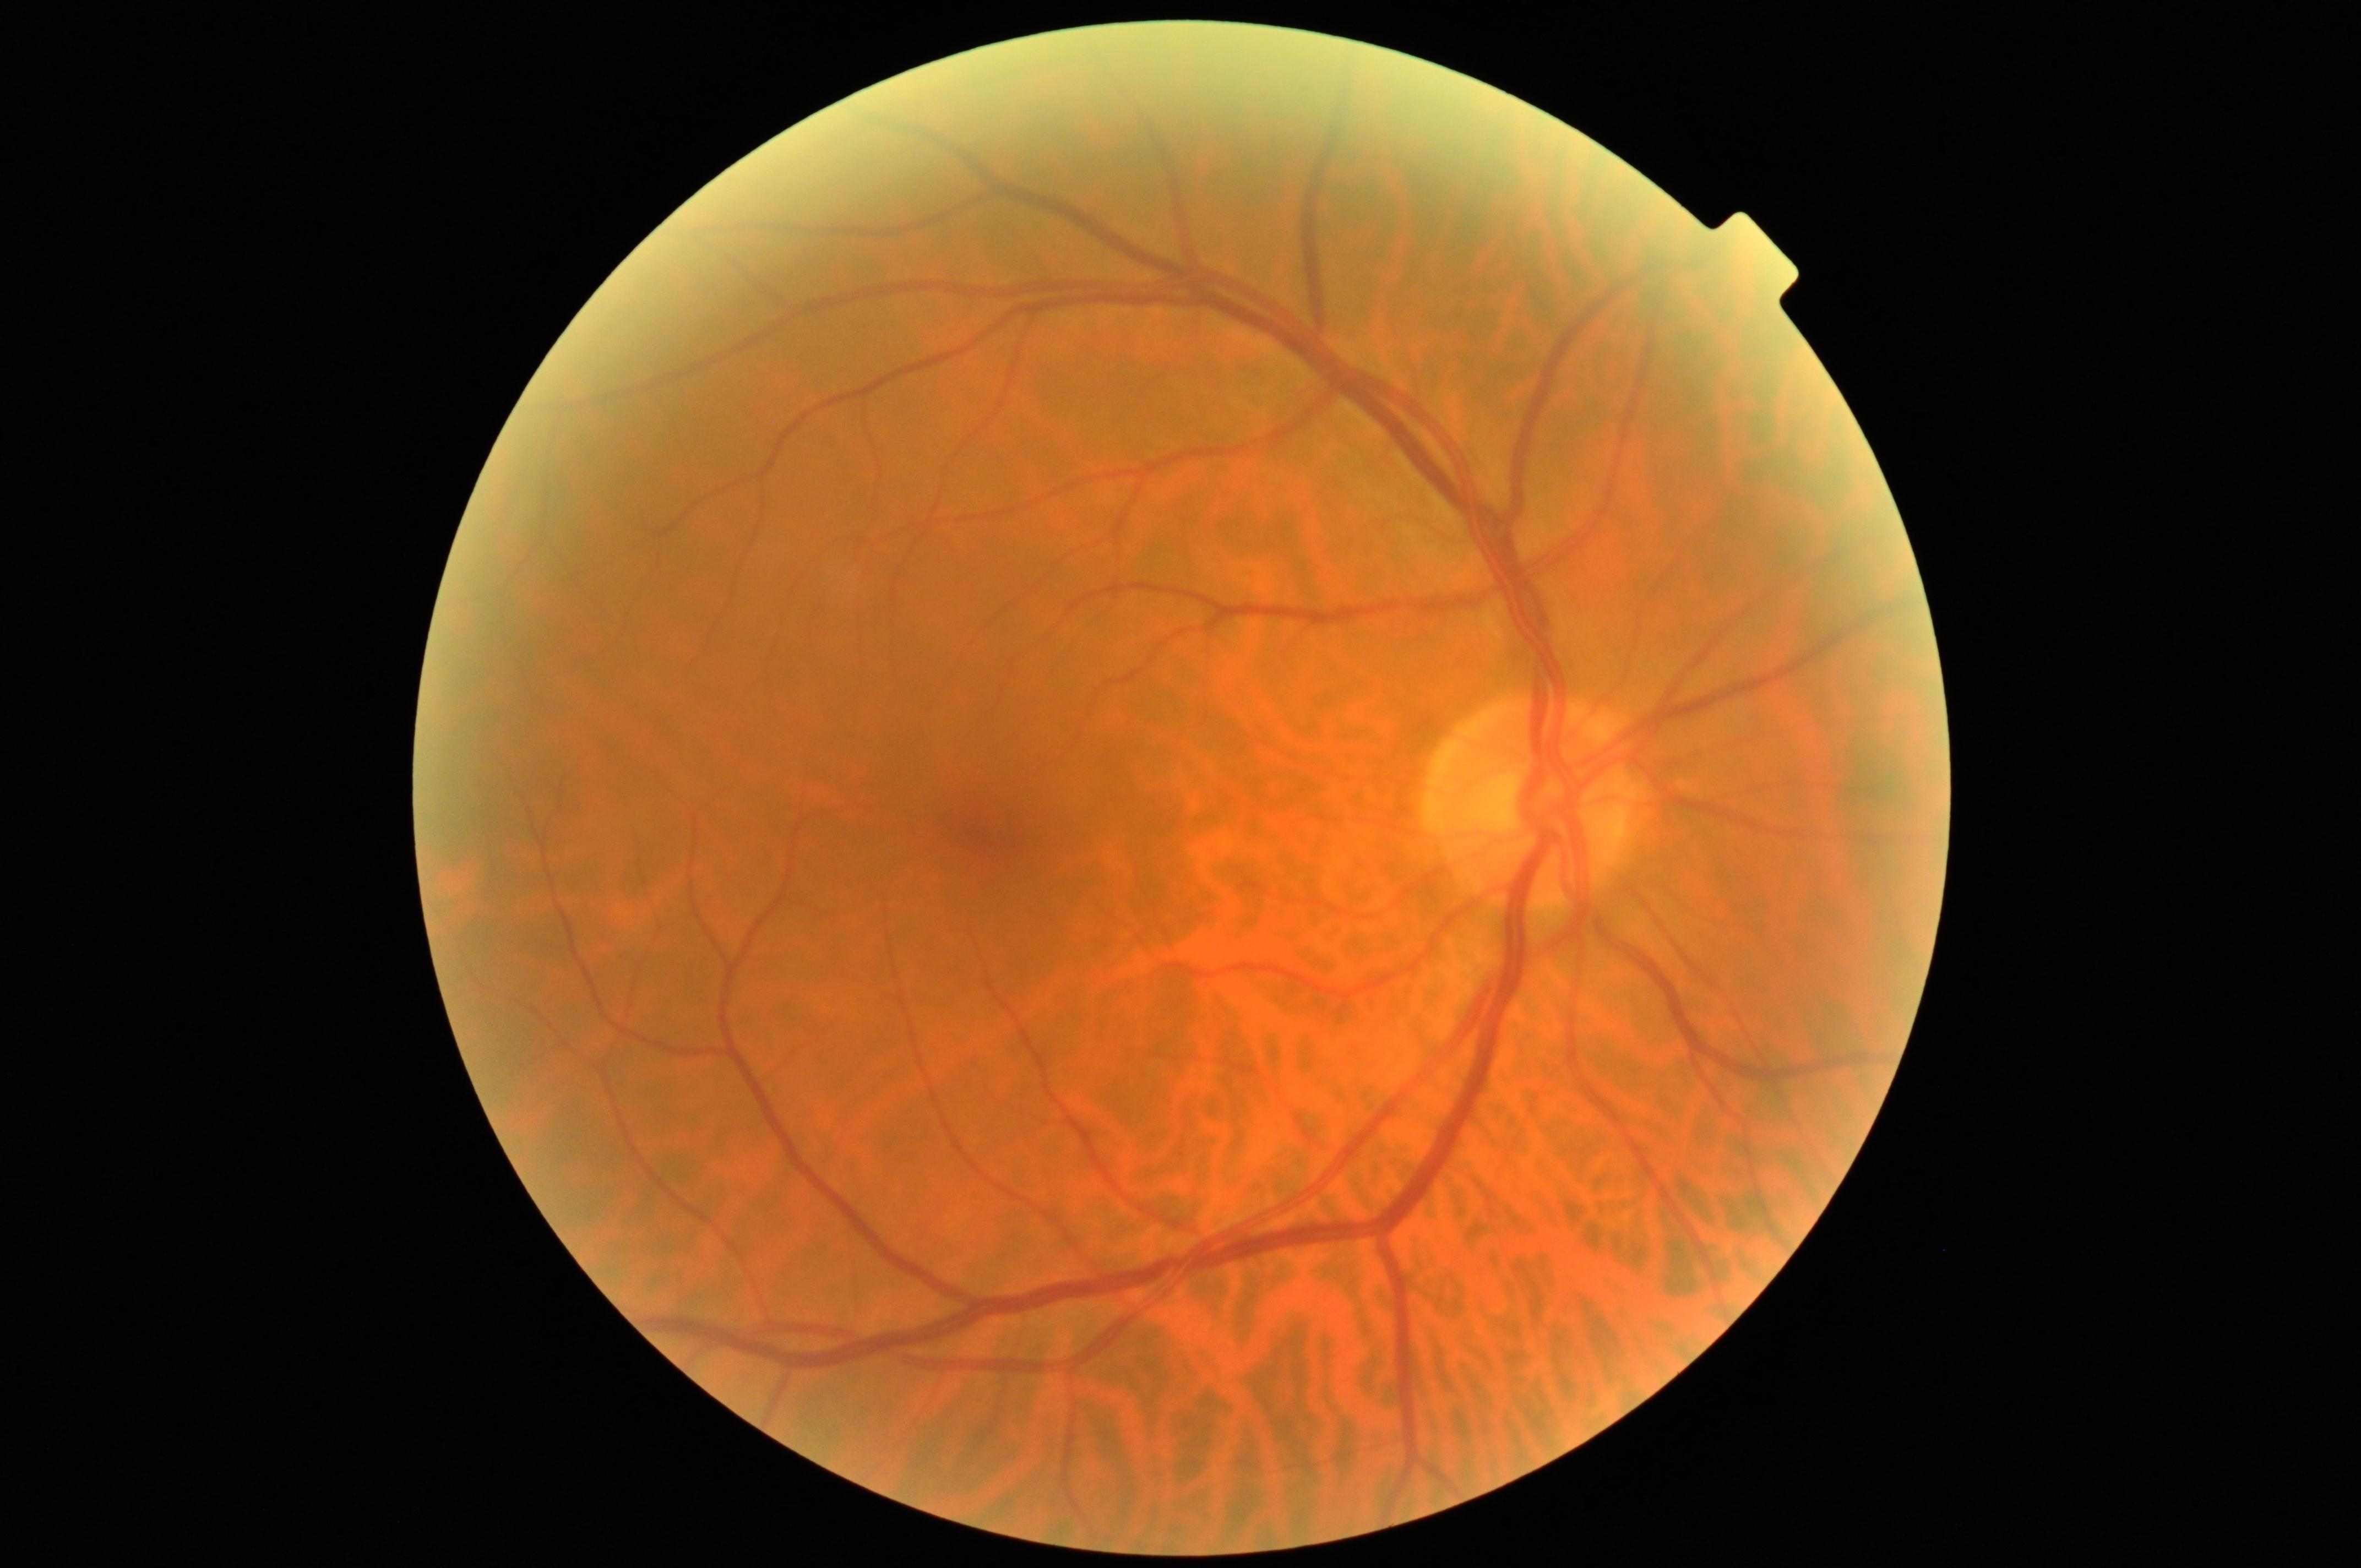Optic-nerve: (1421, 685, 1658, 918)
macula: (880, 739, 1084, 893)
notch: (1691, 194, 1811, 315)
